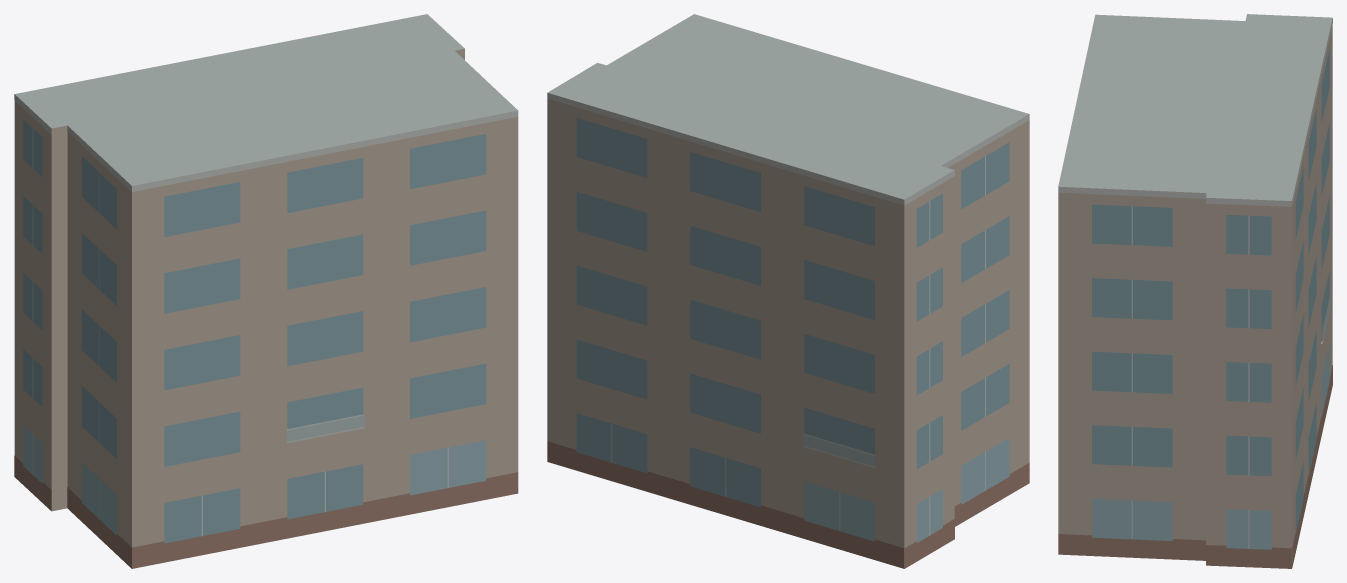
File: survey-upis-32767981.glb
3 views of the same model, side by side, from view 1: azimuth 30°, elevation 25°; view 2: azimuth 150°, elevation 25°; view 3: azimuth 270°, elevation 25° (orthographic). The views are drawn at different scales.
Parts seen in each view (by area): view 1: survey-upis-32767981.tmp; view 2: survey-upis-32767981.tmp; view 3: survey-upis-32767981.tmp.
Boxes of the visible parts, box(x1,y1,x2,y2) form: survey-upis-32767981.tmp: box(14, 14, 518, 568); survey-upis-32767981.tmp: box(547, 14, 1029, 568); survey-upis-32767981.tmp: box(1058, 14, 1332, 568).
Size of the model in its own units: 16.65 by 15.25 by 10.33.
